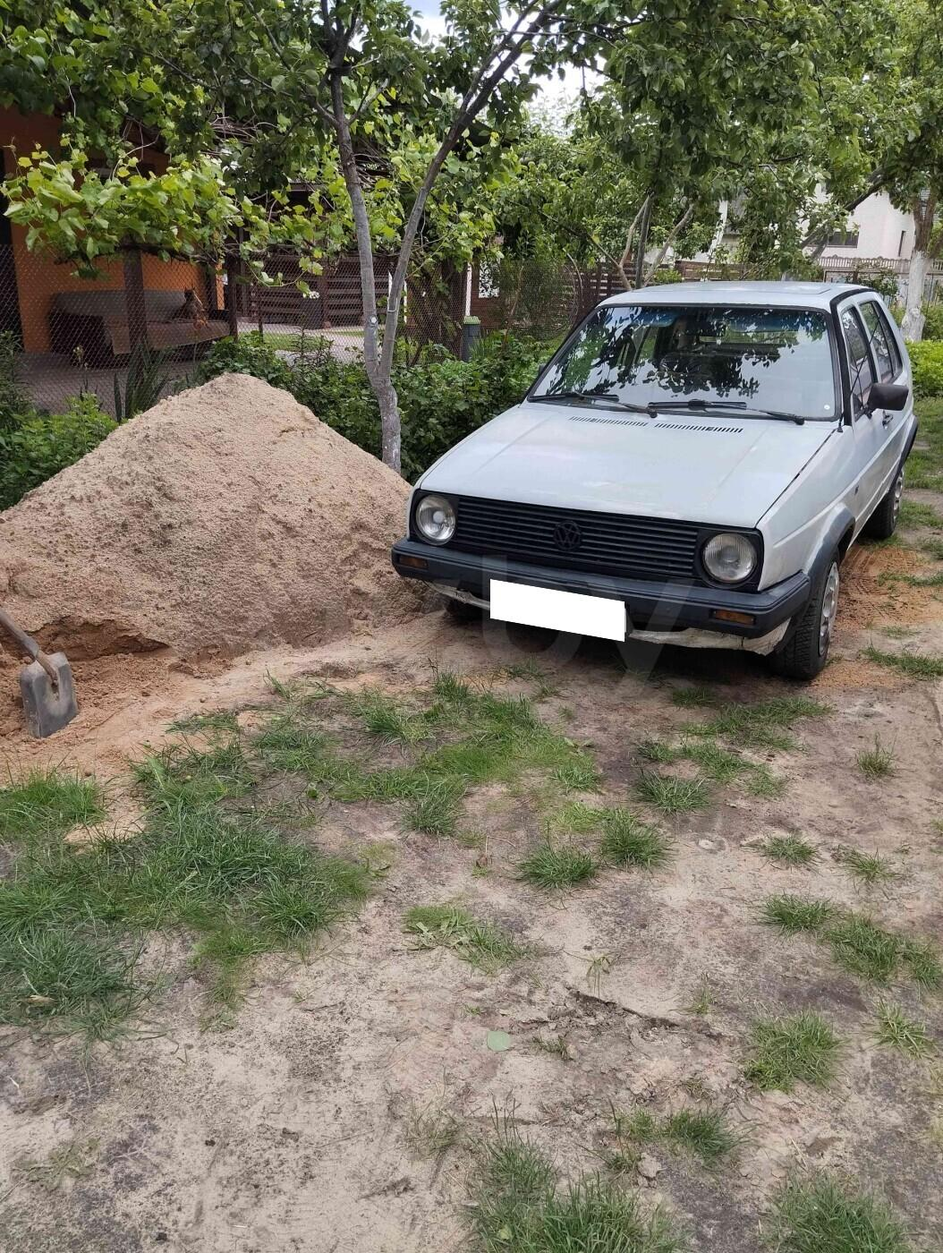Golf_1983-1992: (403, 267, 909, 678)
